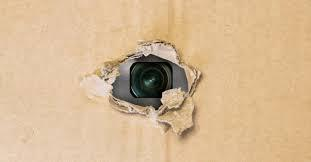maru: (111, 35, 197, 113)
